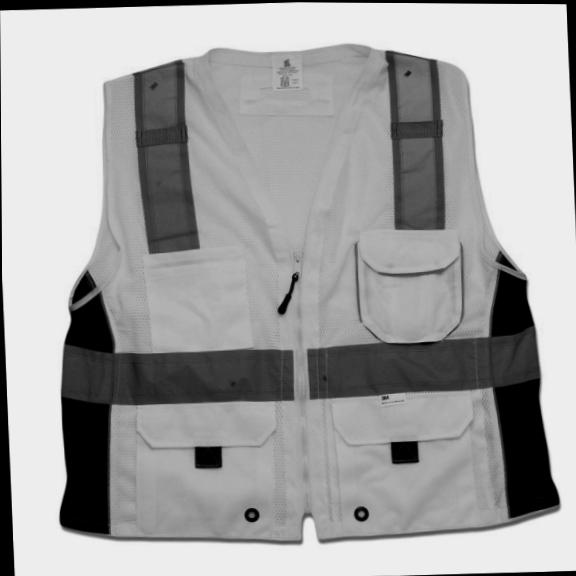safety_vest: (38, 32, 563, 550)
